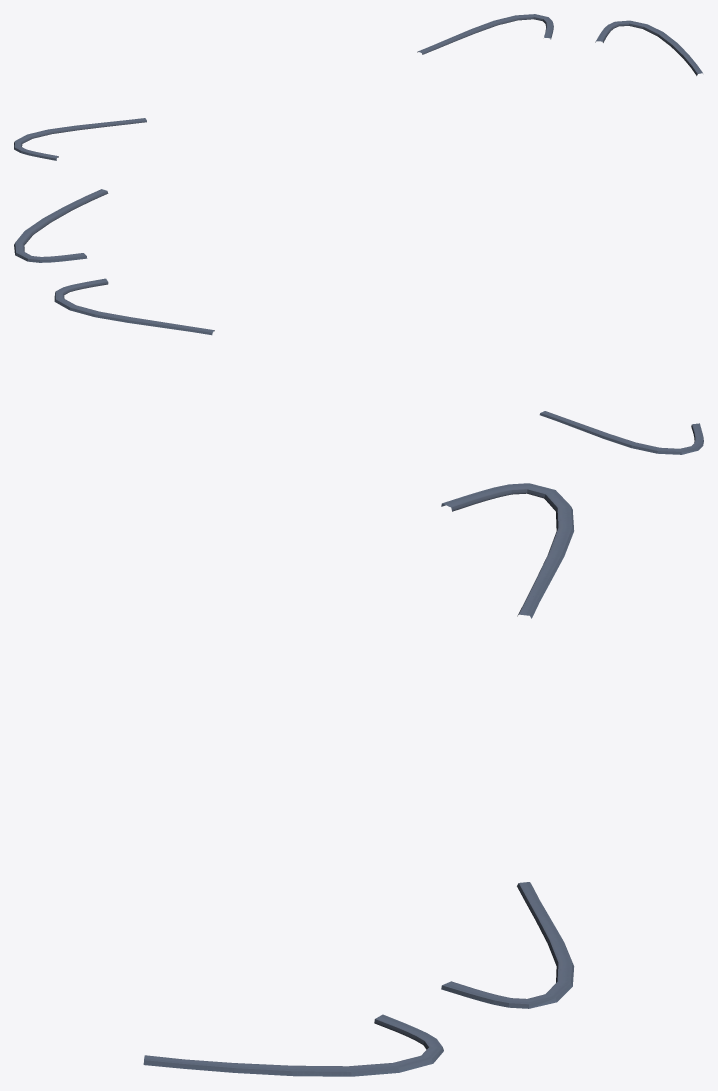
The model's file is pref_sm_beach_bk_pointmol_leftbuild03_lv1.fbx.
3 renders of one model, top to bottom at view 1: azimuth 30°, elevation 25°; view 2: azimuth 150°, elevation 25°; view 3: azimuth 270°, elevation 25°, orthographic. The views are drawn at different scales.
Parts seen in each view (by area): view 1: pref_sm_beach_bk_pointmol_leftbuild03_lv1; view 2: pref_sm_beach_bk_pointmol_leftbuild03_lv1; view 3: pref_sm_beach_bk_pointmol_leftbuild03_lv1.
Part boxes in pixels (x1,y1,x2,y2): pref_sm_beach_bk_pointmol_leftbuild03_lv1: [14, 14, 702, 160]; pref_sm_beach_bk_pointmol_leftbuild03_lv1: [14, 189, 703, 454]; pref_sm_beach_bk_pointmol_leftbuild03_lv1: [143, 483, 574, 1076].
Bounding box in the file's own units: 115 × 0.8292 × 35.29.
